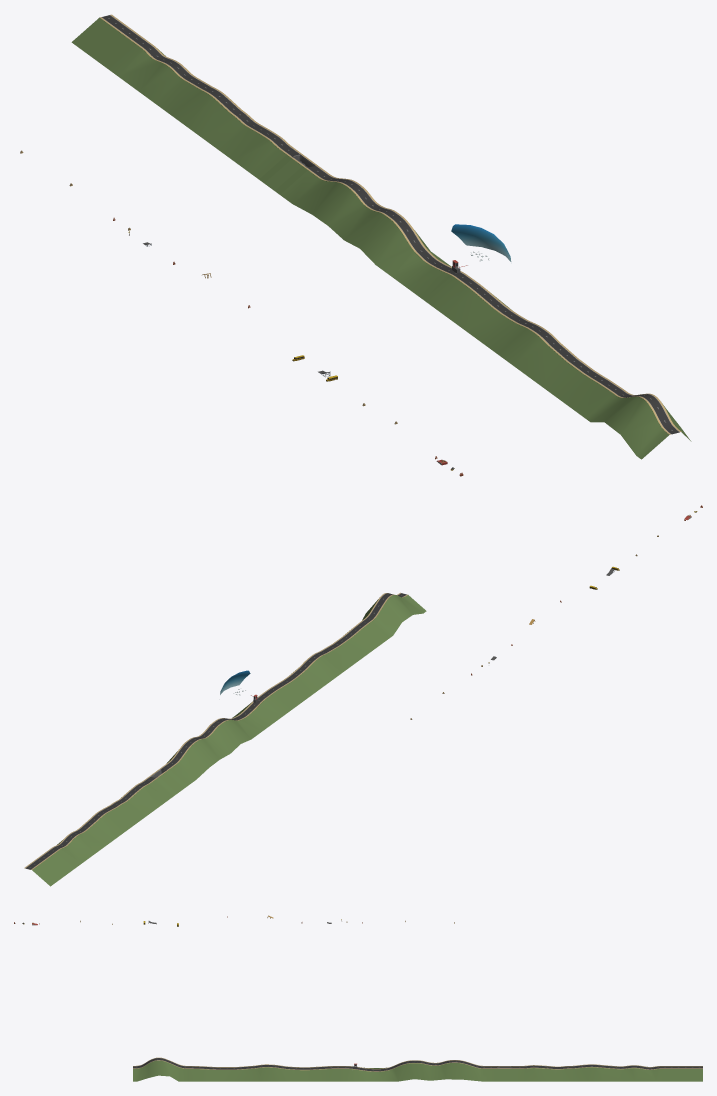
The model's file is level_0.glb.
The picture shows the model from 3 angles, top to bottom: view 1: azimuth 30°, elevation 25°; view 2: azimuth 150°, elevation 25°; view 3: azimuth 270°, elevation 25°; orthographic projection. The views are drawn at different scales.
Visible parts, largest first — view 1: road_normal_09, road_easy_04, road_easy_06, road_mountain_angle_65, road_easy_00_small_1, SkyDome; view 2: road_normal_09, road_easy_04, road_easy_06, road_mountain_angle_65, road_easy_00_small_1; view 3: road_normal_09, road_easy_04, road_easy_06, road_mountain_angle_65, road_easy_00_small_1.
Part boxes in pixels (x1,y1,x2,y2): road_normal_09: (280,167,472,306); road_easy_04: (106,40,298,179); road_easy_06: (433,279,625,418); road_mountain_angle_65: (586,391,691,459); road_easy_00_small_1: (71,14,145,67); SkyDome: (451,224,511,261); road_normal_09: (162,693,288,785); road_easy_04: (47,777,173,869); road_easy_06: (263,619,389,711); road_mountain_angle_65: (362,592,426,637); road_easy_00_small_1: (24,851,72,886); road_normal_09: (341,1060,494,1081); road_easy_04: (515,1064,668,1081); road_easy_06: (188,1064,341,1081); road_mountain_angle_65: (133,1057,188,1081); road_easy_00_small_1: (668,1066,702,1081).
Size of what is drawn, in the model's own units: 287 by 112 by 878.
Materials: 5 (5 with a texture image).
